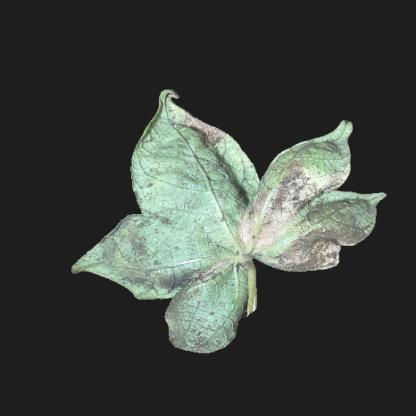curl_stage2: (165, 151, 217, 224), (199, 226, 243, 260), (135, 146, 163, 198), (313, 134, 351, 164)
sooty: (288, 212, 355, 265), (258, 167, 324, 217), (145, 259, 225, 296), (112, 224, 160, 280), (173, 287, 214, 335), (178, 120, 226, 148)
